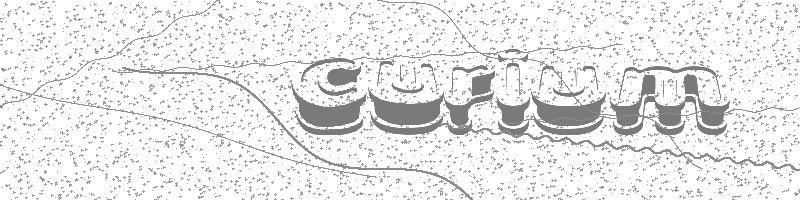c: (293, 57, 367, 137)
i: (495, 47, 531, 136)
m: (609, 64, 731, 136)
r: (446, 64, 495, 137)
u: (367, 60, 444, 136), (532, 64, 607, 136)
